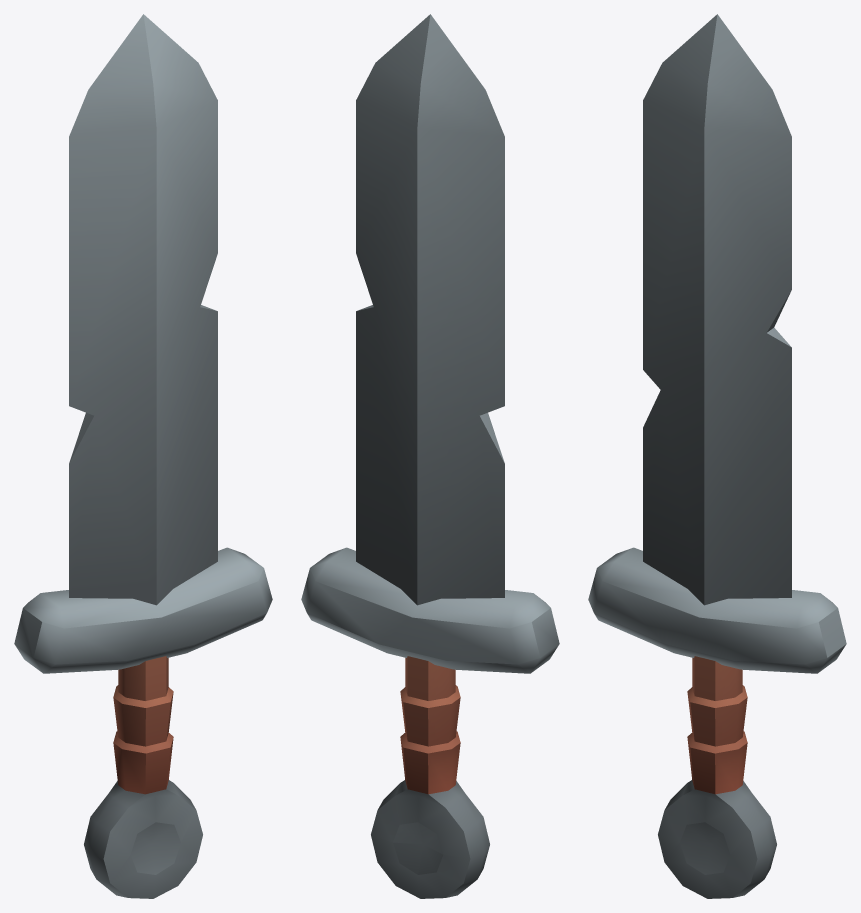
The model's file is KayKit_Weapon_sword_1handed.glb.
3 views of the same model, side by side, from view 1: azimuth 30°, elevation 25°; view 2: azimuth 150°, elevation 25°; view 3: azimuth 330°, elevation 25° (orthographic).
Parts seen in each view (by area): view 1: sword_1handed; view 2: sword_1handed; view 3: sword_1handed.
Boxes of the visible parts, x1,y1,x2,y2 form: sword_1handed: (14, 14, 272, 898); sword_1handed: (301, 14, 559, 898); sword_1handed: (588, 14, 846, 898).
Bounding box in the file's own units: 0.5034 × 1.78 × 0.1306.
Materials: 1 (1 with a texture image).
